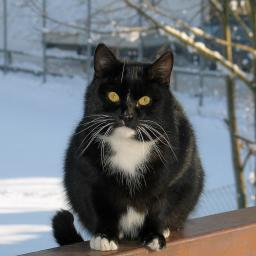catnose: (118, 108, 135, 122)
